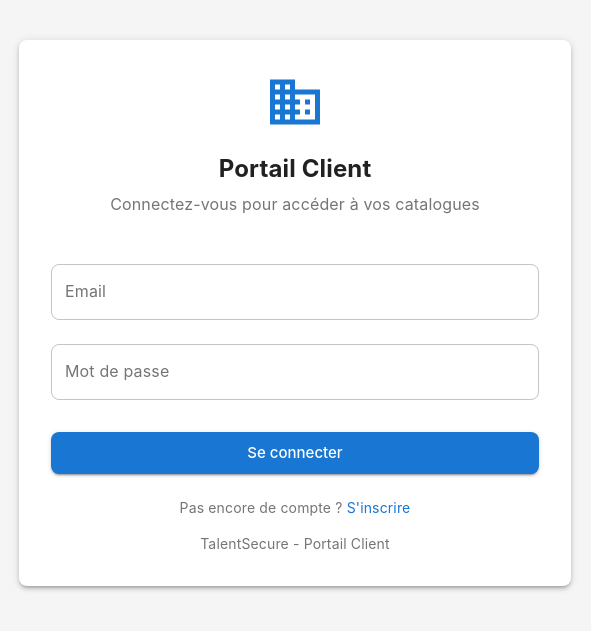
Test: ClientLoginPage › affiche les erreurs de validation si le formulaire est vide
Step 1. Click the button "Se connecter" → point(295, 453), box x1=51 y1=432 x2=539 y2=474
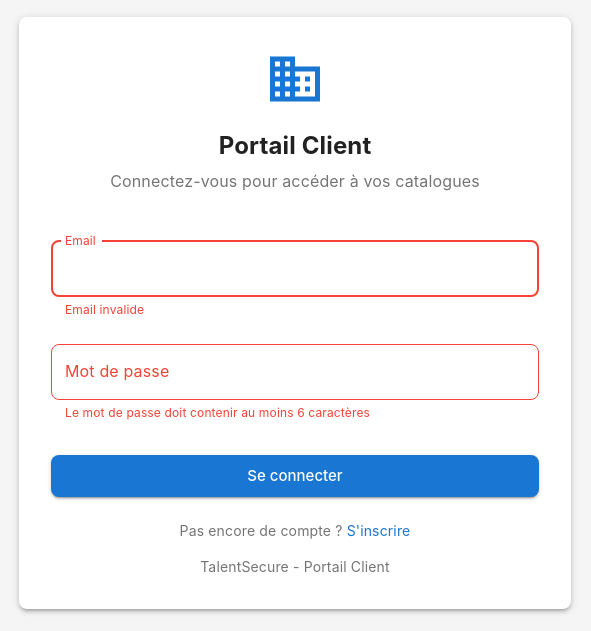
Now the text "Email invalide" is shown, box x1=65 y1=302 x2=144 y2=317
